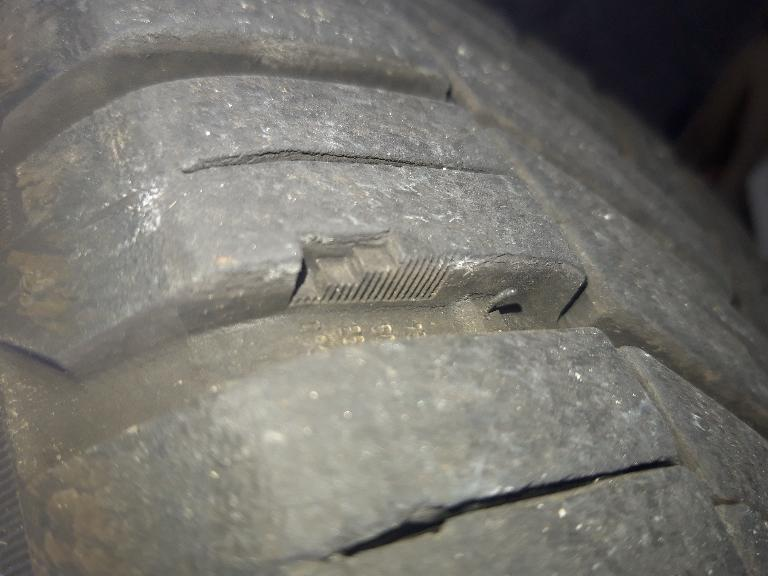temoin:90: (275, 210, 464, 324)
